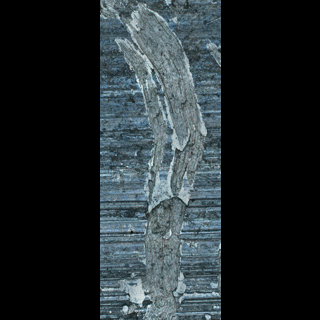d: (137, 51, 209, 180), (139, 159, 201, 261), (103, 2, 181, 76), (111, 261, 194, 320), (200, 279, 220, 320)
